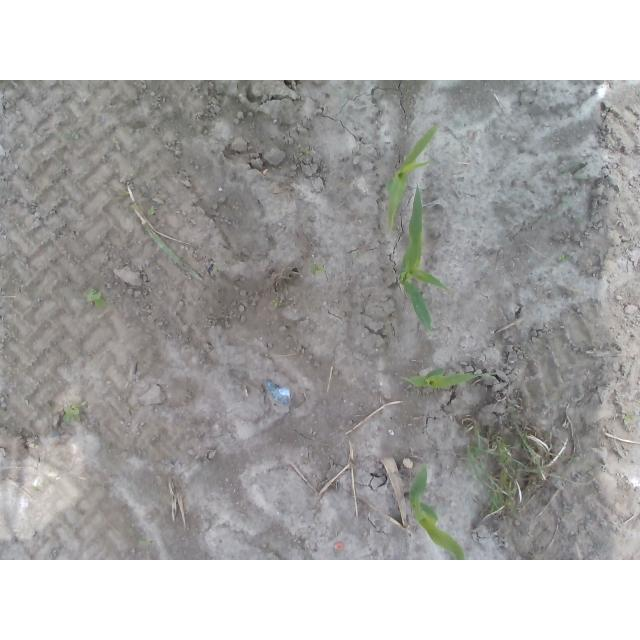Maize: (398, 183, 455, 334), (403, 464, 465, 561), (387, 127, 438, 228), (400, 369, 496, 392)
Weeds: (113, 191, 204, 282), (86, 288, 108, 308), (63, 403, 82, 422), (311, 262, 325, 274), (623, 415, 640, 424), (64, 132, 80, 141), (559, 255, 569, 262), (272, 299, 281, 306), (213, 265, 221, 271), (32, 487, 39, 492)
